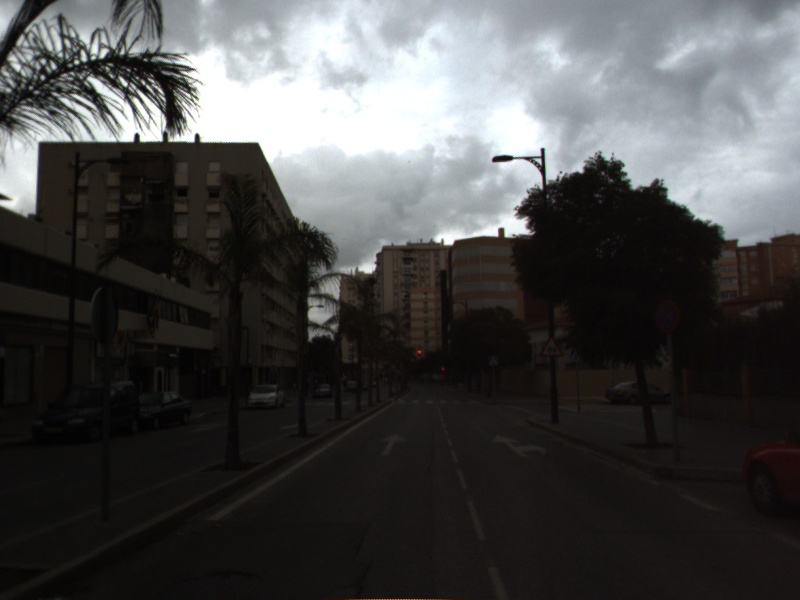STRAIGHT: (378, 432, 409, 458)
STRAIGHT_RIGHT: (490, 431, 549, 459)
